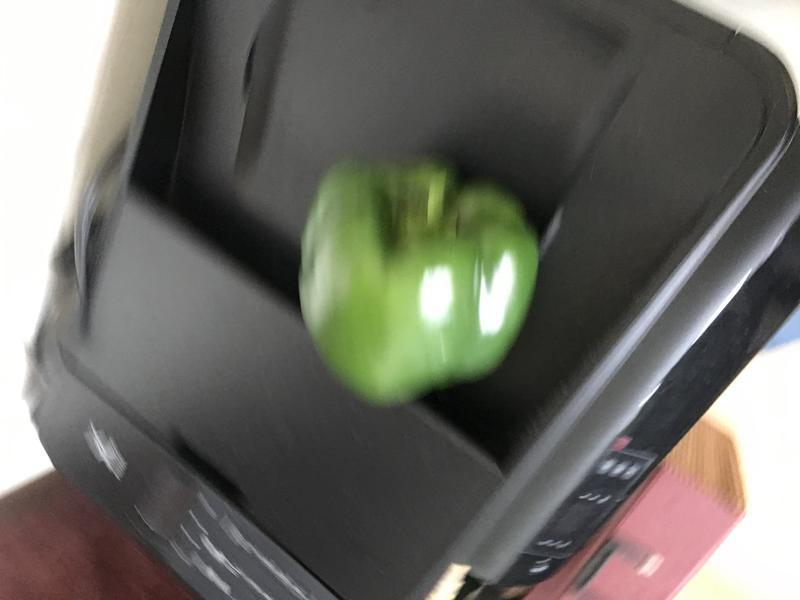green_pepper: (285, 142, 548, 417)
